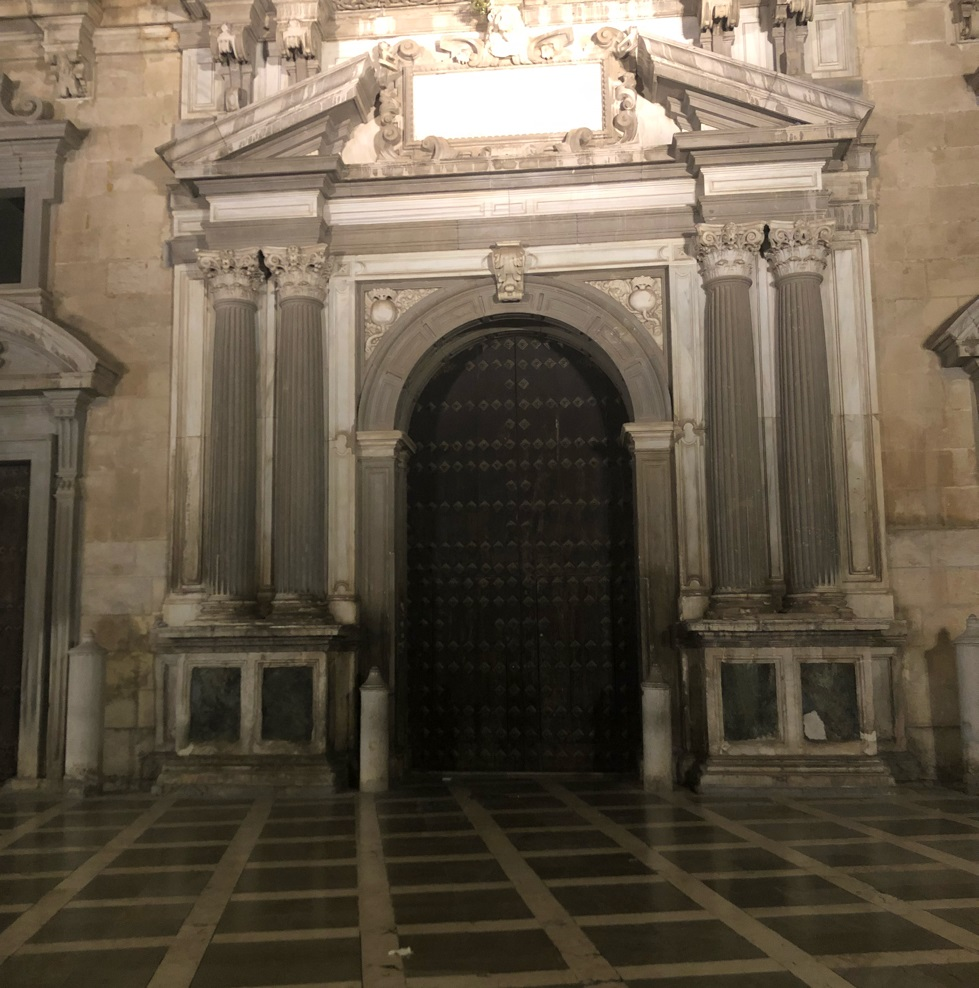arco-medio-punto: (386, 303, 650, 487)
fronton-partido: (151, 33, 874, 179)
